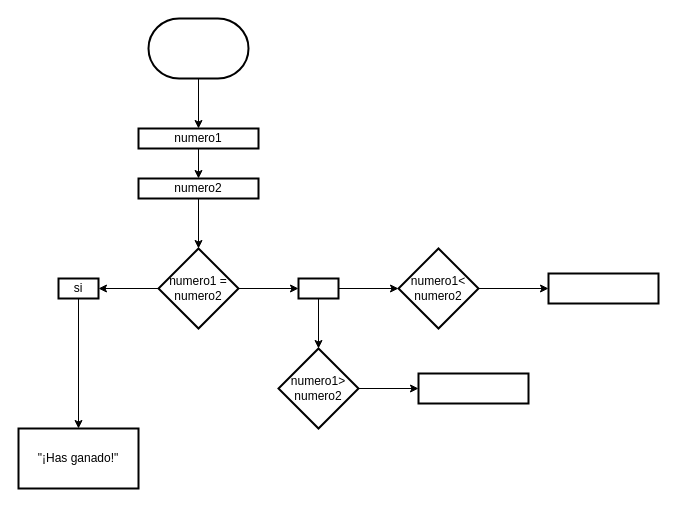
The diagram is 676 pixels wide and 506 high, and some of its shapes have lost their labels. Each missing label, with the box of its shape:
"Demasiado alto": (547, 272, 659, 304)
"Demasiado bajo": (417, 372, 529, 404)
import numero: (147, 17, 249, 79)
no: (297, 277, 339, 299)
